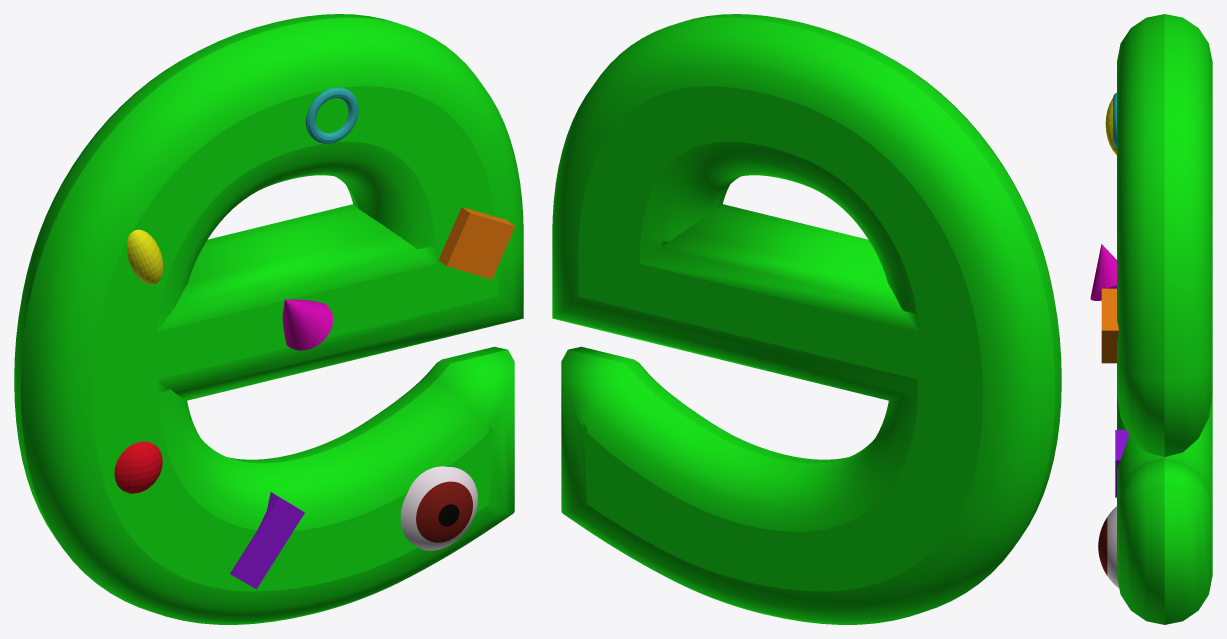
Rendered from e_green.fbx.
3 views of the same model, side by side, from view 1: azimuth 30°, elevation 25°; view 2: azimuth 150°, elevation 25°; view 3: azimuth 270°, elevation 25° (orthographic). The views are drawn at different scales.
Parts seen in each view (by area): view 1: Text, Sphere, Cube, Cube.001, Cone, Sphere.001, Sphere.002, Torus; view 2: Text; view 3: Text, Cube, Sphere, Cone, Cube.001, Sphere.002, Torus.
Part boxes in pixels (x1,y1,x2,y2): Text: [14, 14, 523, 624]; Sphere: [400, 466, 477, 550]; Cube: [438, 207, 515, 279]; Cube.001: [230, 492, 304, 589]; Cone: [282, 299, 332, 350]; Sphere.001: [114, 441, 162, 493]; Sphere.002: [127, 229, 163, 284]; Torus: [306, 87, 358, 143]; Text: [552, 14, 1061, 624]; Text: [1117, 14, 1212, 624]; Cube: [1101, 288, 1118, 363]; Sphere: [1098, 506, 1119, 588]; Cone: [1090, 244, 1116, 300]; Cube.001: [1115, 430, 1128, 497]; Sphere.002: [1105, 98, 1116, 155]; Torus: [1113, 93, 1116, 147].
Bounding box in the file's own units: 107 × 121 × 25.21.
